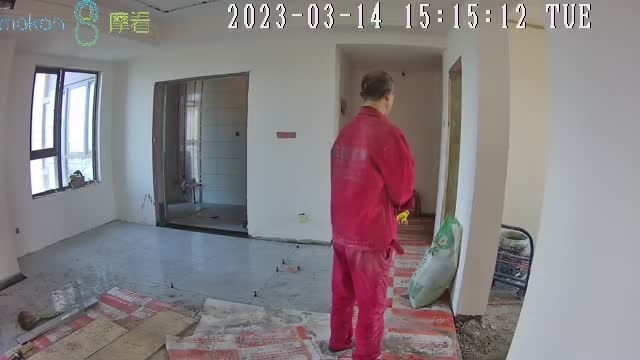people: (329, 70, 414, 360)
window: (31, 68, 98, 196)
